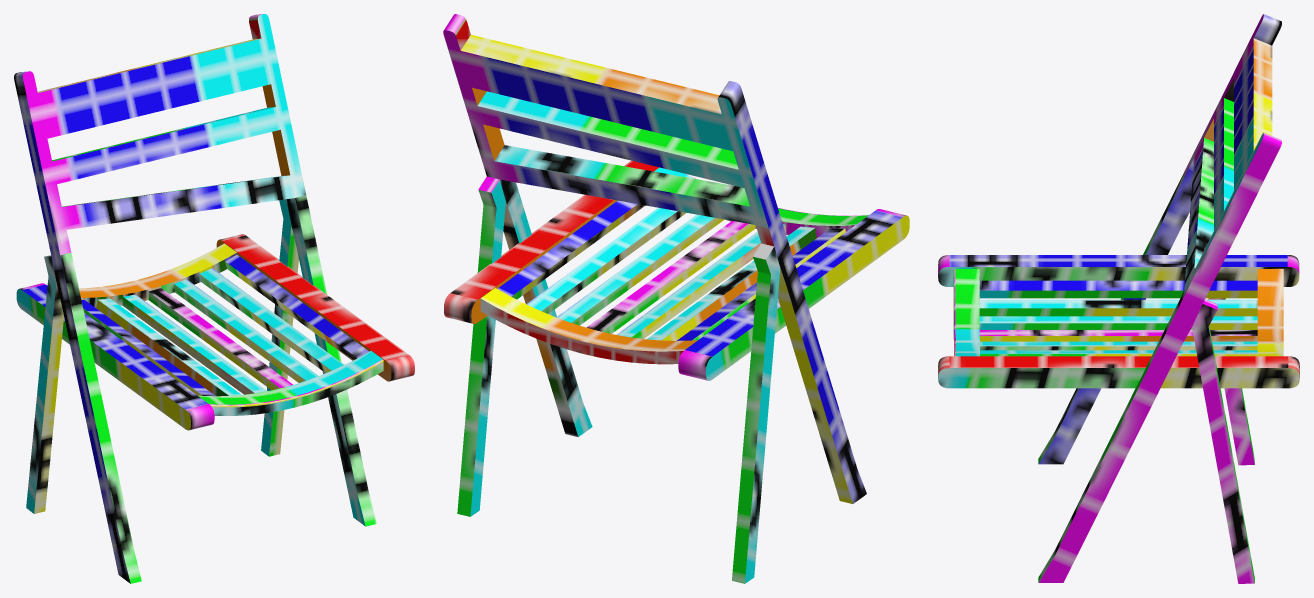
Rendered from Chair1-a.FBX.
3 views of the same model, side by side, from view 1: azimuth 30°, elevation 25°; view 2: azimuth 150°, elevation 25°; view 3: azimuth 270°, elevation 25° (orthographic). The views are drawn at different scales.
Parts seen in each view (by area): view 1: Box003; view 2: Box003; view 3: Box003.
Boxes of the visible parts, box(x1,y1,x2,y2) form: Box003: box(14, 14, 414, 583); Box003: box(443, 14, 909, 583); Box003: box(938, 14, 1299, 583).
Size of the model in its own units: 30.77 by 51.61 by 37.84.
Materials: 1 (1 with a texture image).
